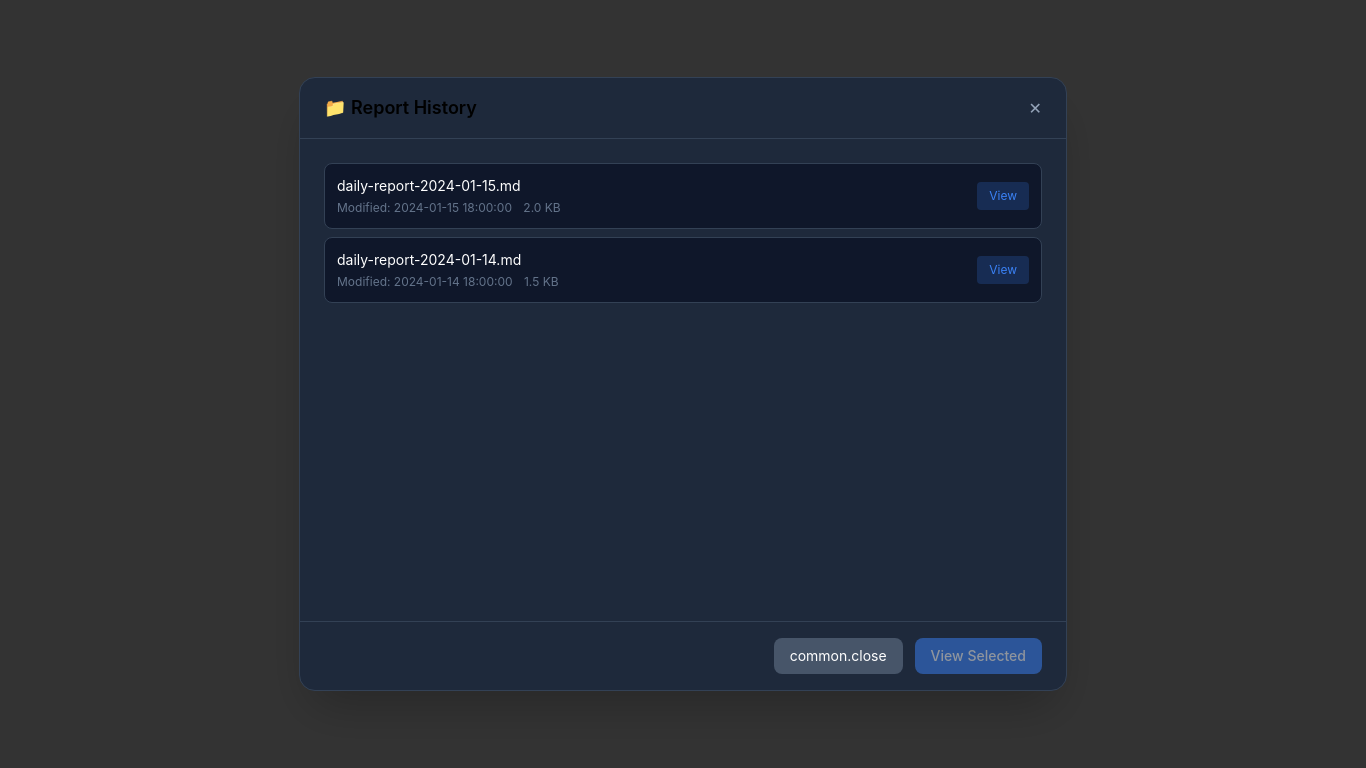
Test case: ReportHistoryViewer › view file actions › View Selected button is enabled when file is selected
# Select first file
Click the element that starts with "daily-report-2024-01-15.md".
click(683, 196)  # box [324,163,1042,229]
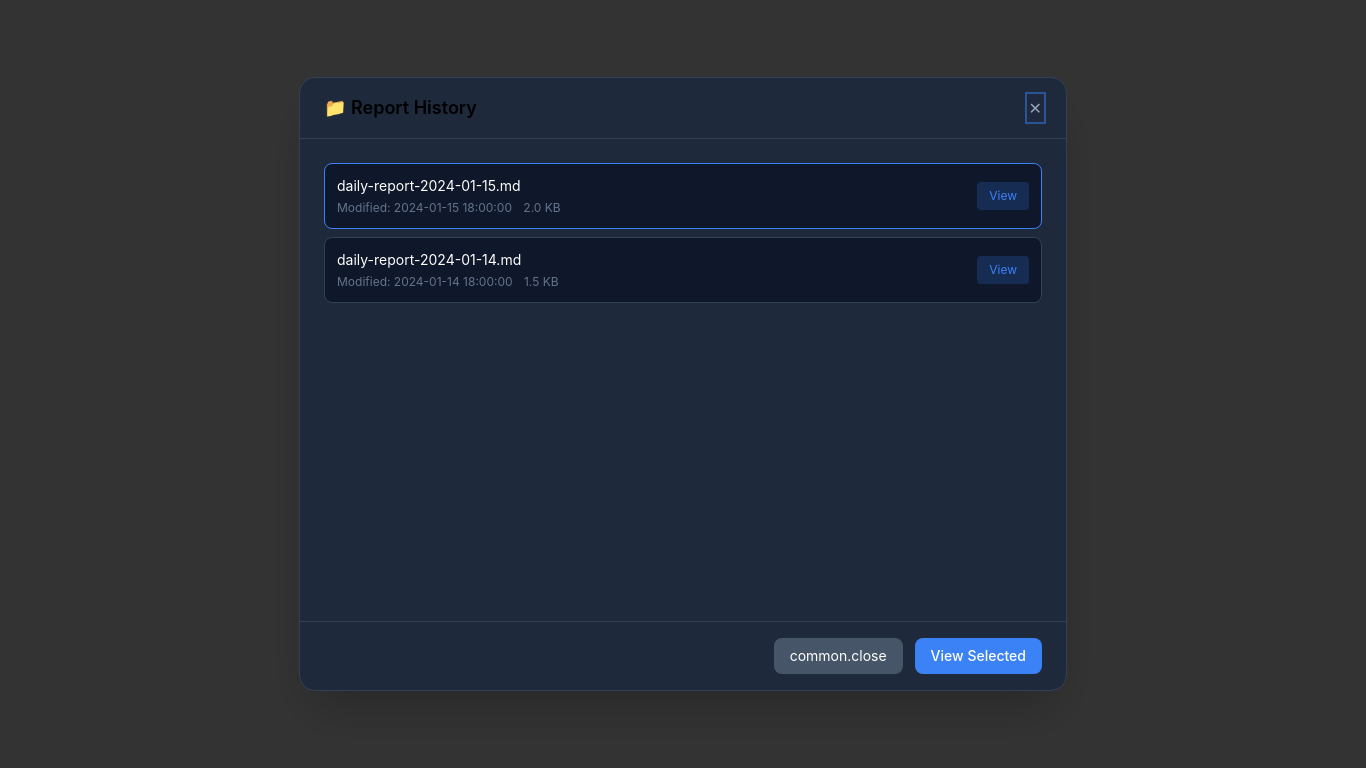
Now the button "View Selected" is enabled, box [915,638,1042,674]
